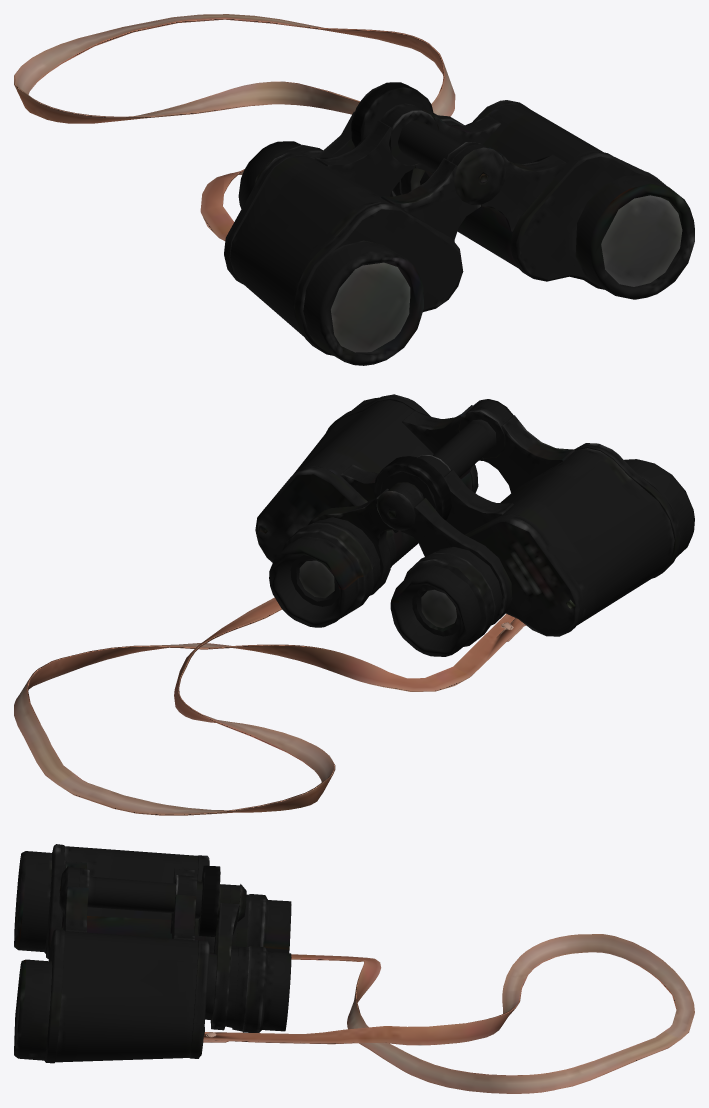
File: binoculars.glb
3 renders of one model, top to bottom at view 1: azimuth 30°, elevation 25°; view 2: azimuth 150°, elevation 25°; view 3: azimuth 270°, elevation 25°, orthographic. The views are drawn at different scales.
Visible parts, largest first — view 1: binoculars_left, binoculars_strap; view 2: binoculars_left, binoculars_strap; view 3: binoculars_left, binoculars_strap.
Part boxes in pixels (<box>): binoculars_left: <box>224,82,694,365</box>; binoculars_strap: <box>14,14,455,240</box>; binoculars_left: <box>255,394,694,656</box>; binoculars_strap: <box>14,597,525,815</box>; binoculars_left: <box>14,844,291,1063</box>; binoculars_strap: <box>203,934,694,1093</box>.
Size of the model in its own units: 0.1669 by 0.0659 by 0.2877.
Materials: 2 (2 with a texture image).
